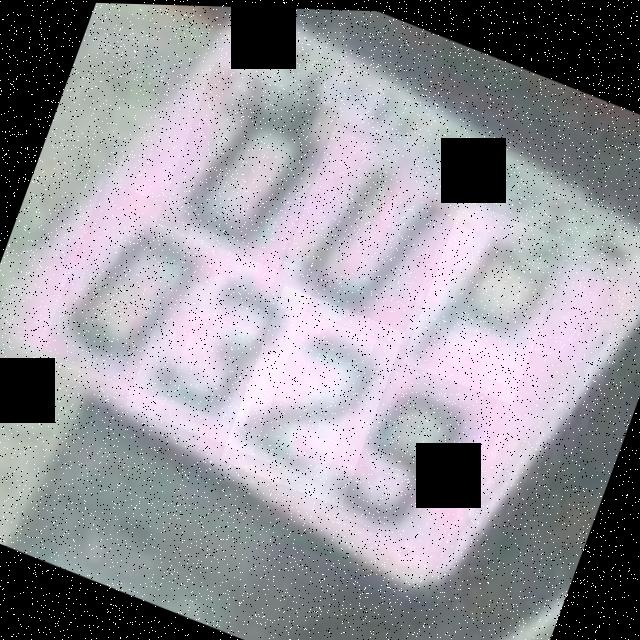0: (41, 178, 228, 402)
2: (220, 283, 404, 507)
3: (125, 221, 319, 456)
9: (314, 331, 503, 557)
O: (156, 60, 340, 271)
P: (402, 195, 572, 403)
U: (267, 114, 465, 348)
